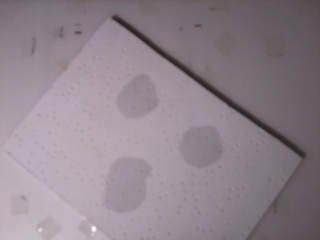Water_detected: (105, 164, 140, 206), (184, 129, 219, 165), (122, 72, 150, 108)
